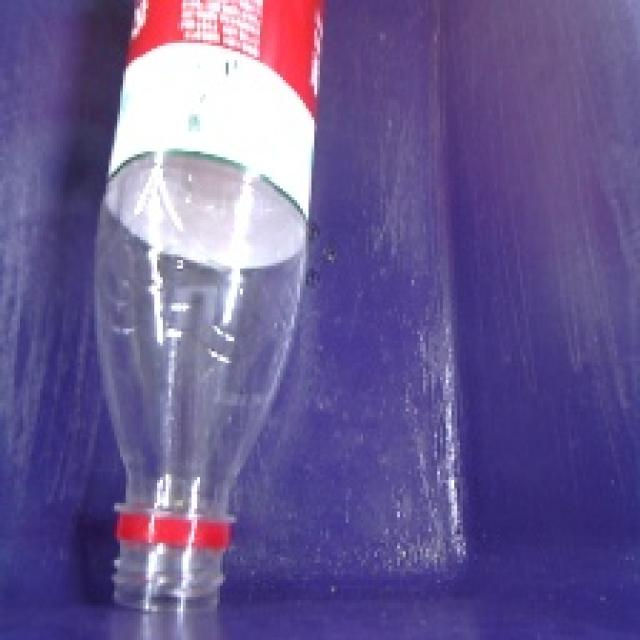plastic: (37, 0, 356, 629)
